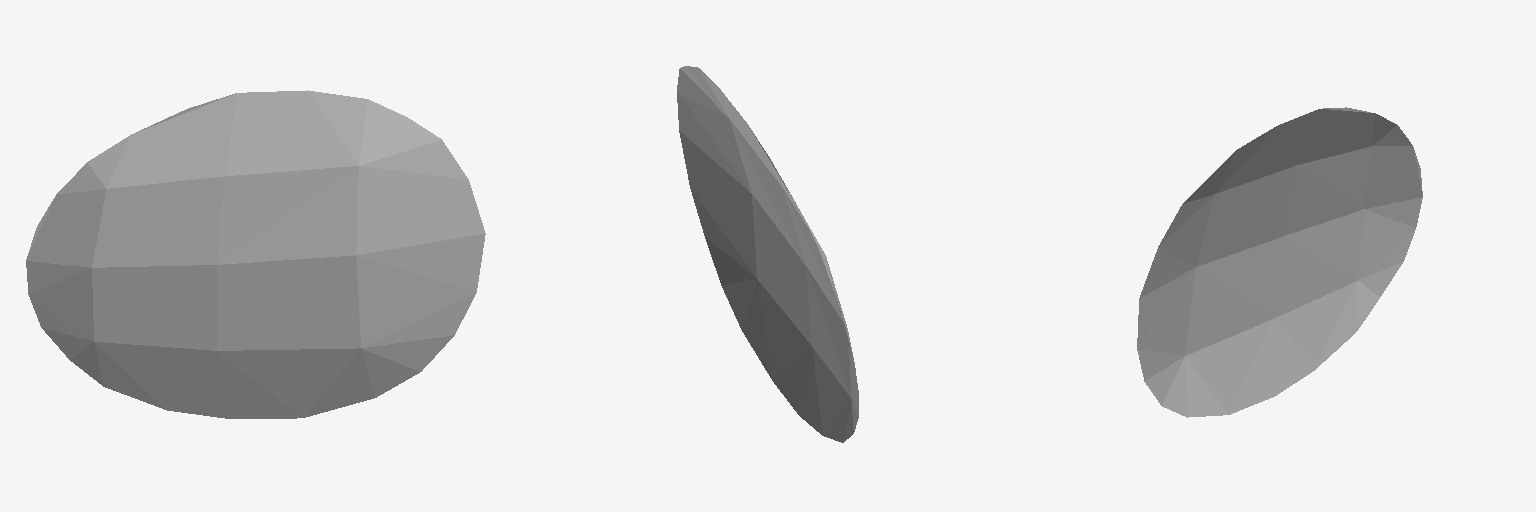
The model's file is headlight.obj.
The picture shows the model from 3 angles: view 1: azimuth 30°, elevation 25°; view 2: azimuth 150°, elevation 25°; view 3: azimuth 270°, elevation 25°; orthographic projection.
Visible parts, largest first — view 1: car.012; view 2: car.012; view 3: car.012.
Boxes of the visible parts, x1,y1,x2,y2 form: car.012: [26, 90, 485, 418]; car.012: [677, 66, 858, 442]; car.012: [1137, 107, 1422, 417].
Size of the model in its own units: 1.08 by 1 by 0.8387.